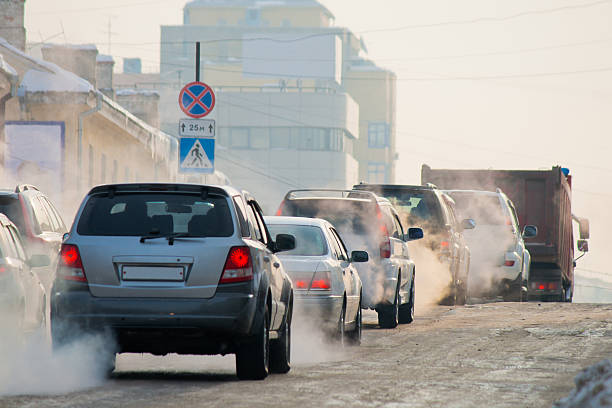car: (53, 182, 290, 381), (280, 191, 416, 327), (350, 185, 471, 302), (260, 214, 361, 347), (434, 190, 532, 308), (1, 220, 50, 361), (2, 184, 68, 268)
pedestrain: (179, 137, 215, 174)
truck: (421, 162, 575, 303)
